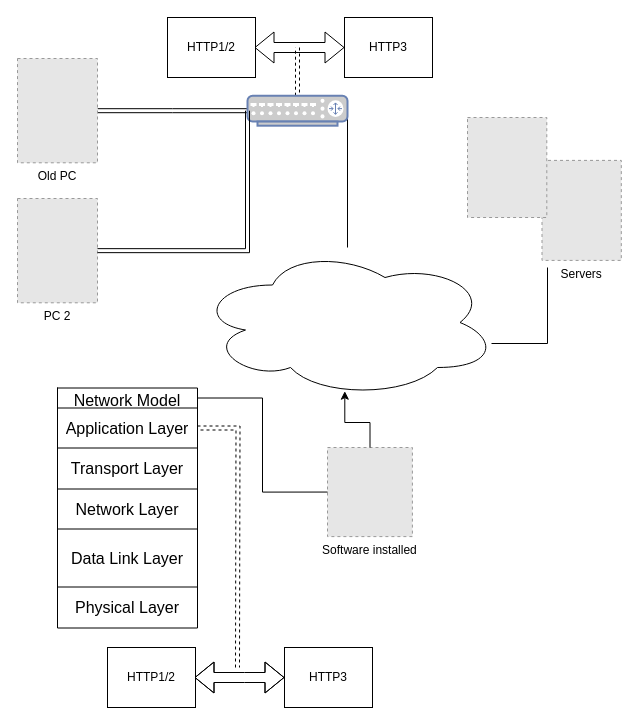
Image size: 639x725. Some labels were removed from this diagram. Grey dashed boxes stand in for pictures. Here are the shapes that lost their labels. From the top down, the box of each, then its label:
(246, 94, 348, 126): Special Router
(196, 246, 498, 398): Public Internet
